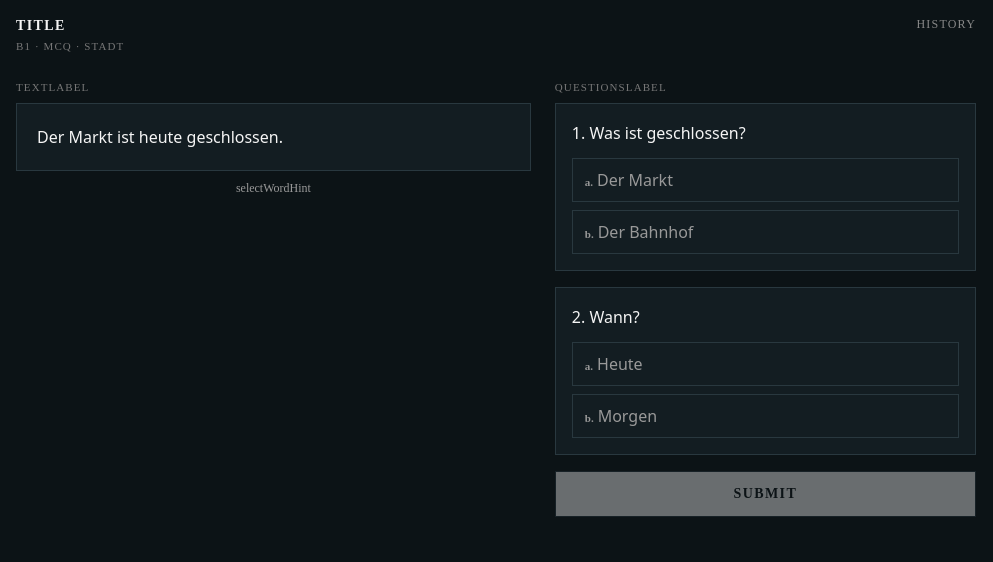
Test: ReadingPage › strikes through the wrong answer and highlights the correct one
Expected: the text "Der Markt ist heute geschlossen." is shown, [37, 126, 283, 148]
Click the button "a. Der Markt" at coordinates (635, 180), box [572, 158, 959, 202]
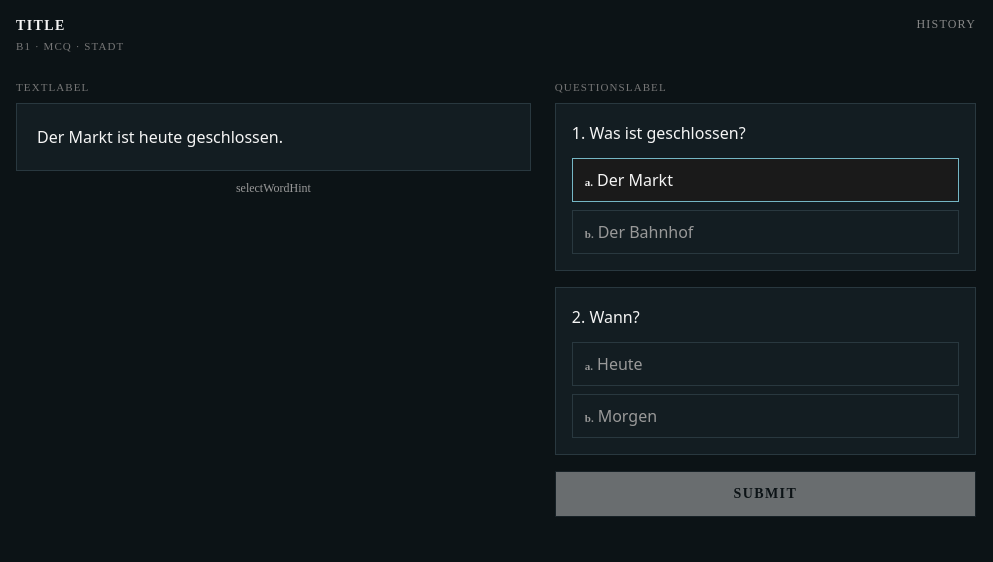
Click the button "a. Heute" at coordinates (620, 364), box [572, 342, 959, 386]
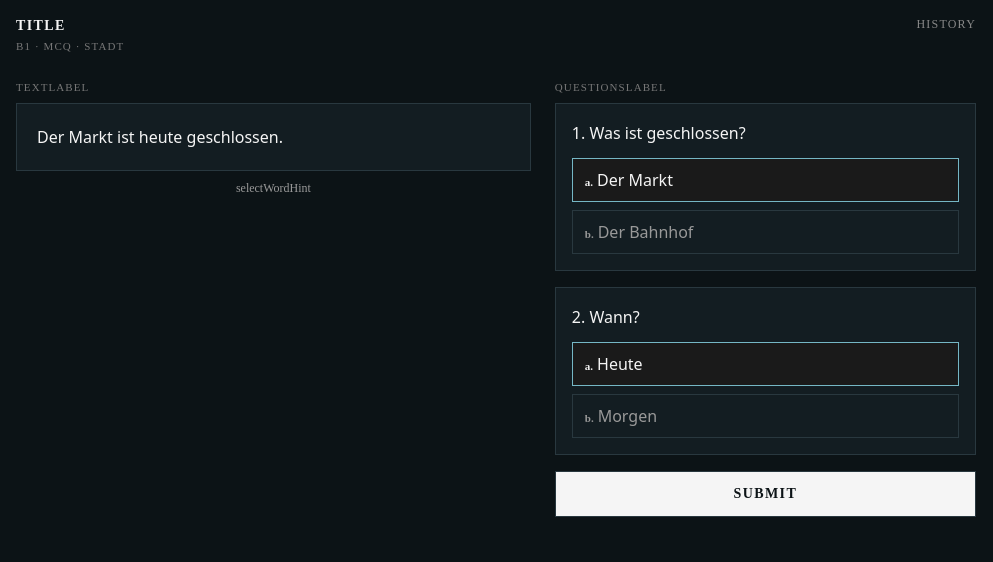
Result: the button "submit" is enabled
Click the button "submit" at coordinates (765, 494), box [555, 471, 976, 517]
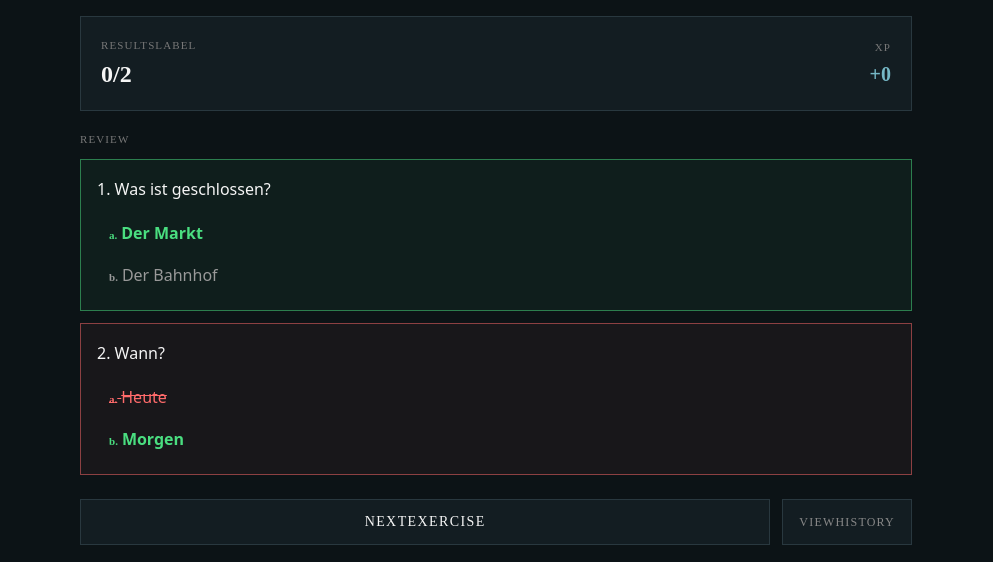
Result: the text "resultsLabel" is shown at [101, 37, 196, 54]
Result: the number of elements with class "line-through" is 1 at [109, 386, 167, 408]
